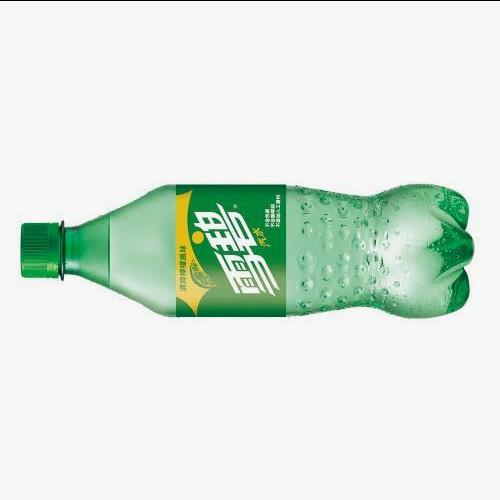bottle: (16, 178, 480, 326)
